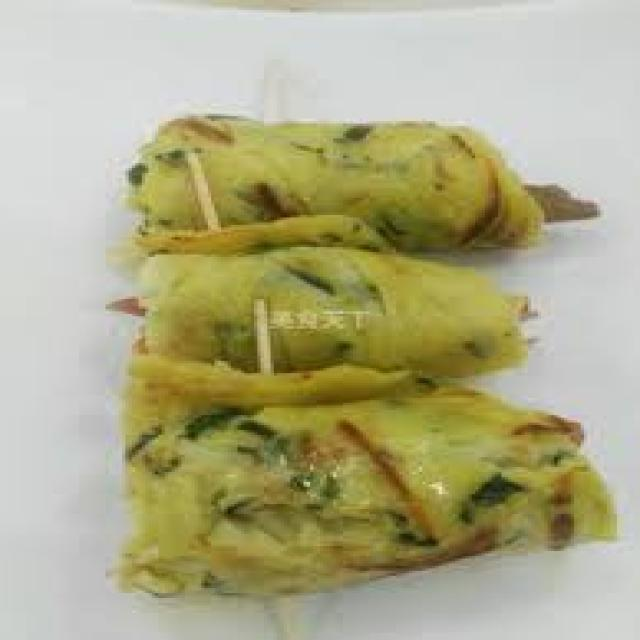food_waste: (115, 116, 610, 593)
